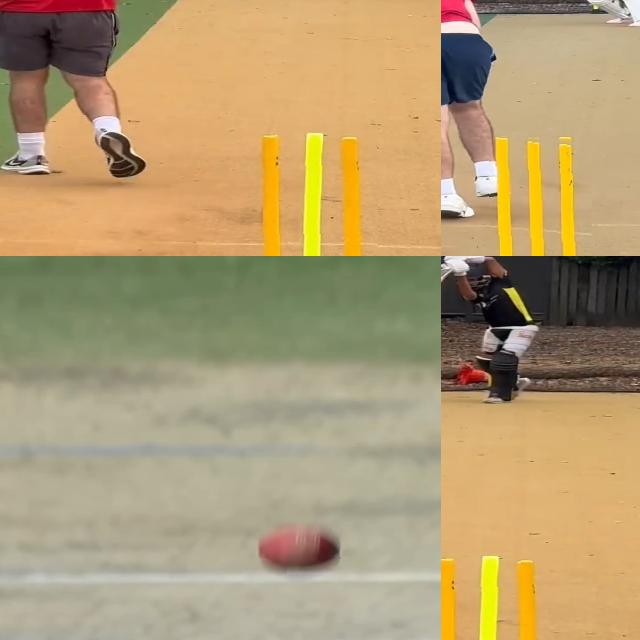Cricket ball: (252, 524, 343, 576)
Stumps: (241, 133, 377, 256), (482, 131, 592, 256), (441, 554, 549, 640)
